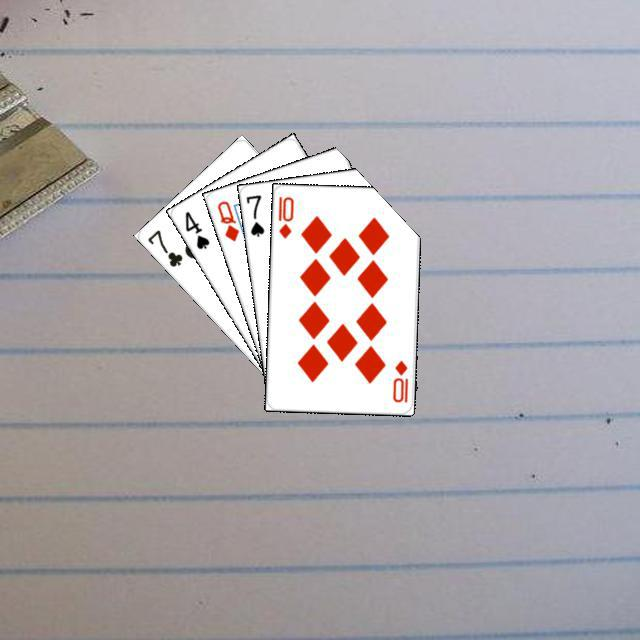10d: (273, 192, 295, 240), (388, 356, 409, 404)
4s: (180, 206, 211, 251)
7c: (142, 225, 184, 269)
7s: (241, 190, 266, 238)
Qd: (212, 196, 241, 243)
